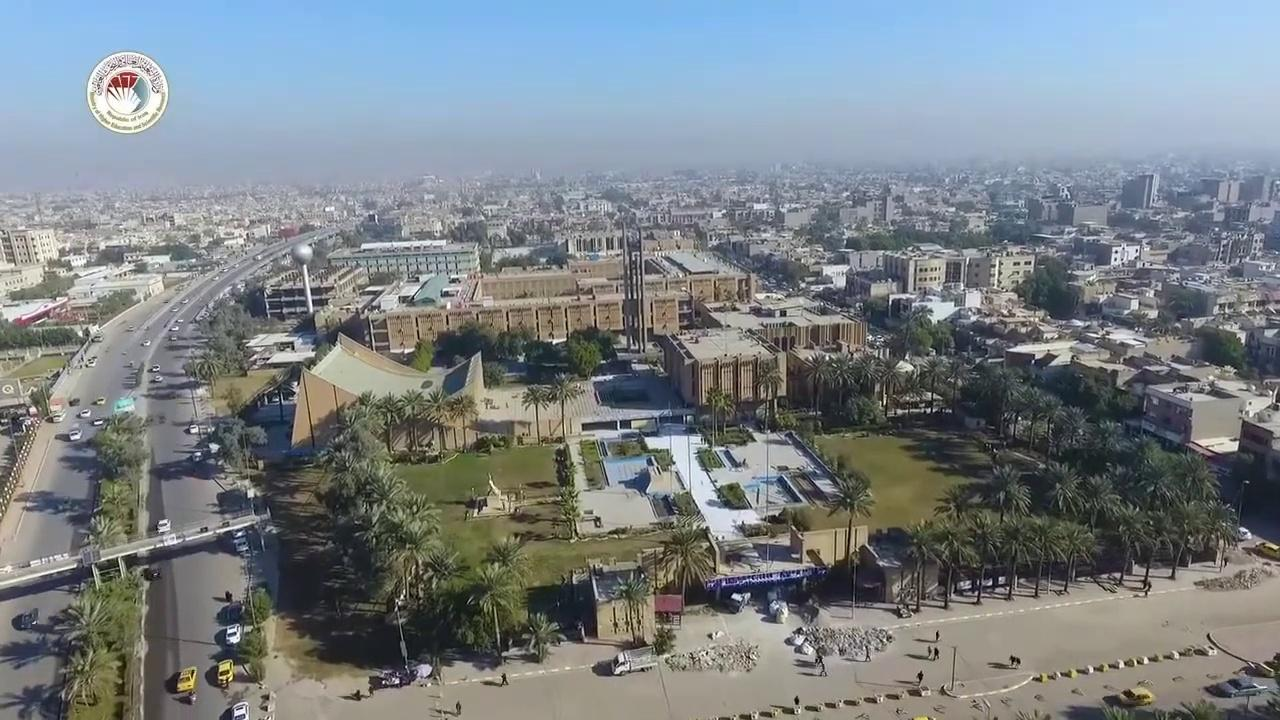car: (611, 643, 658, 676), (1209, 676, 1268, 698), (1118, 686, 1155, 706), (225, 623, 241, 645), (157, 518, 170, 533), (68, 428, 81, 440), (77, 408, 91, 418), (187, 424, 199, 434), (92, 418, 105, 426), (95, 396, 106, 405), (150, 363, 160, 371), (153, 374, 163, 382), (168, 325, 178, 332), (141, 339, 150, 346), (170, 306, 177, 312)
person: (793, 695, 800, 715), (499, 672, 508, 686), (188, 689, 196, 704), (916, 670, 923, 686), (454, 700, 461, 715)
tree: (308, 384, 565, 682), (903, 396, 1237, 604), (1, 559, 151, 719), (345, 382, 478, 459), (405, 542, 468, 682), (367, 491, 442, 603), (88, 409, 152, 540), (1159, 449, 1223, 579), (56, 592, 126, 707), (653, 518, 715, 624), (479, 533, 531, 650), (465, 562, 522, 664), (208, 414, 267, 512), (823, 469, 875, 580), (932, 482, 982, 587), (753, 353, 784, 520), (966, 360, 1025, 437), (90, 409, 151, 477), (959, 509, 1000, 604), (235, 585, 272, 686), (1046, 518, 1095, 594), (993, 512, 1034, 600), (1108, 499, 1150, 583), (904, 517, 940, 611), (978, 461, 1031, 523), (611, 569, 650, 645), (1071, 472, 1118, 533), (545, 370, 583, 441), (1037, 459, 1084, 516), (1047, 403, 1089, 460), (420, 385, 452, 455), (755, 354, 784, 431), (370, 390, 404, 454), (932, 481, 980, 526), (802, 348, 834, 415), (481, 533, 529, 575), (915, 353, 948, 413), (523, 610, 561, 662), (446, 391, 478, 452), (520, 382, 551, 443), (870, 355, 901, 415), (398, 387, 426, 452), (86, 511, 127, 554), (824, 350, 854, 408), (941, 356, 971, 413), (552, 485, 582, 541), (566, 334, 601, 379), (241, 585, 272, 630), (704, 385, 725, 448), (717, 389, 735, 438), (410, 337, 435, 372), (650, 623, 676, 655)
